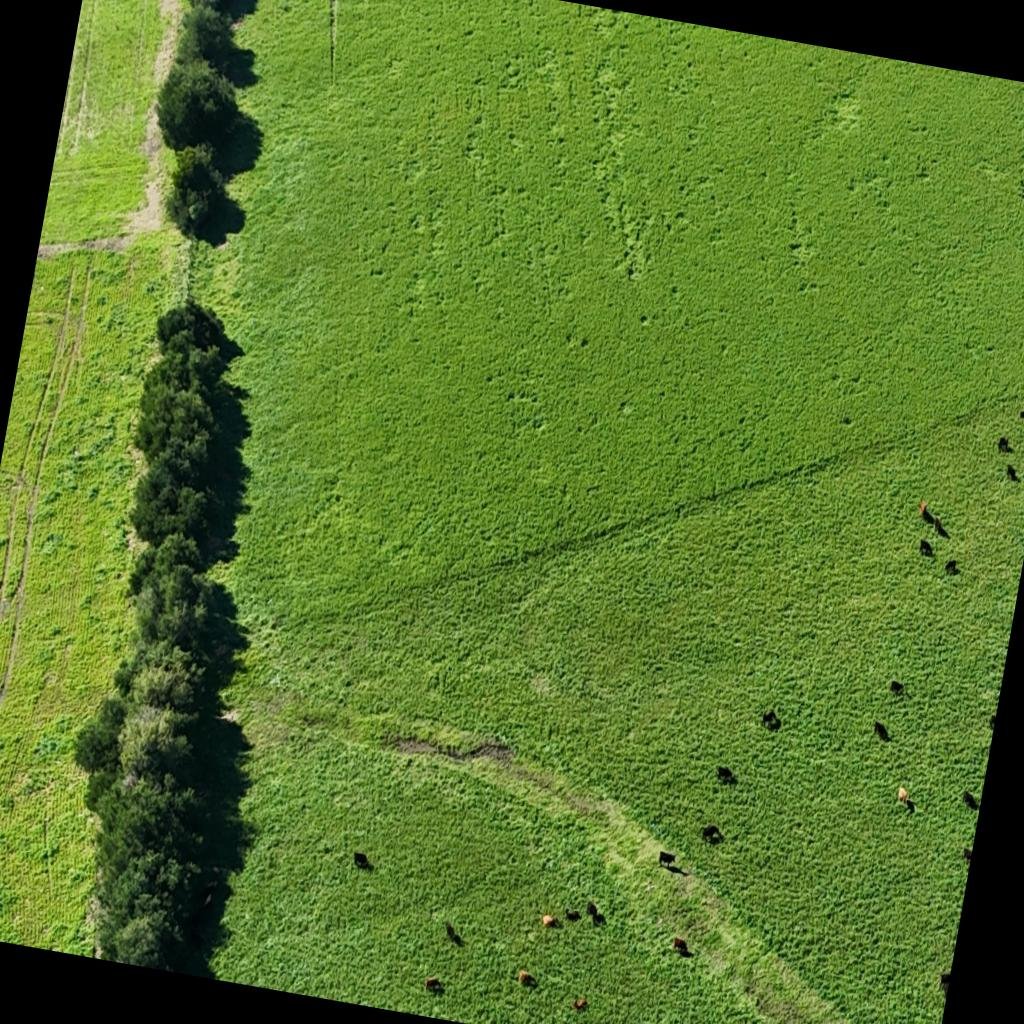cow: (196, 878, 220, 912), (443, 922, 467, 947), (352, 850, 376, 872), (700, 824, 723, 846), (584, 900, 605, 924), (761, 708, 782, 731), (931, 516, 951, 539), (872, 720, 892, 742), (716, 766, 738, 786), (662, 858, 686, 876), (517, 970, 538, 990), (961, 790, 981, 810), (895, 784, 913, 806), (424, 974, 444, 993), (541, 911, 561, 929), (190, 926, 206, 948), (936, 971, 950, 996), (658, 850, 676, 869), (918, 538, 935, 558), (672, 937, 690, 955), (996, 435, 1012, 454), (888, 680, 904, 698), (902, 798, 918, 816), (571, 996, 588, 1012), (1005, 464, 1020, 482), (565, 908, 583, 923), (944, 558, 958, 576), (960, 847, 972, 864), (917, 500, 927, 518), (987, 714, 996, 730), (1018, 409, 1024, 421)
